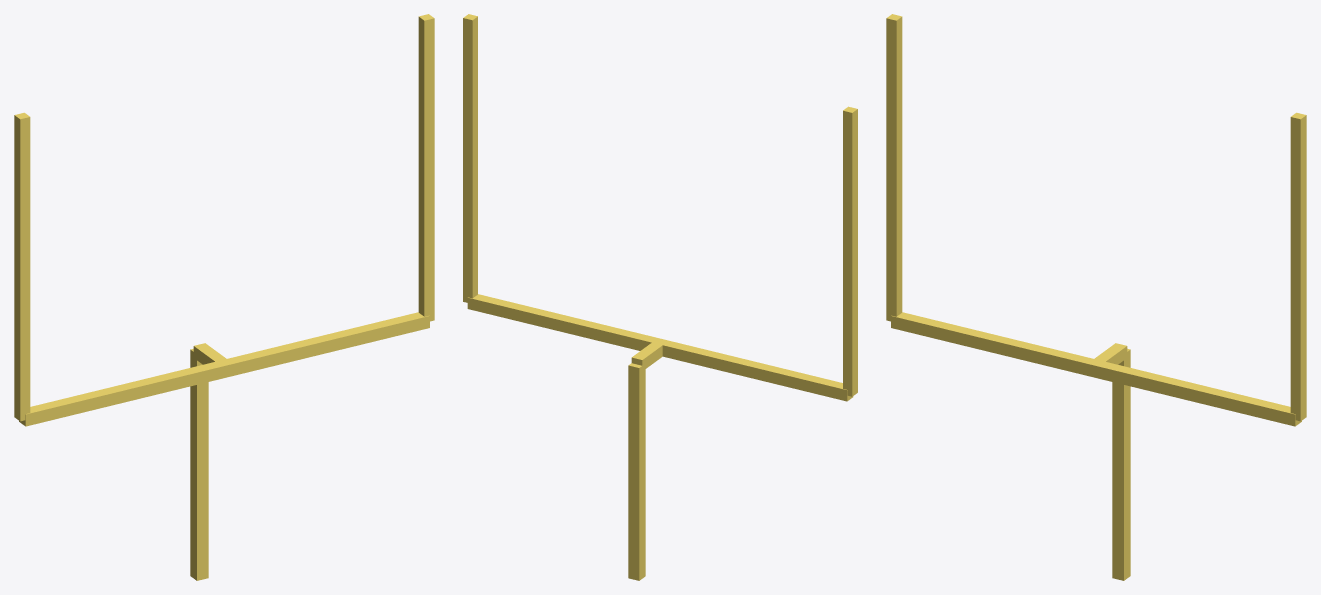
The model's file is goalpost.glb.
3 renders of one model, left to right at view 1: azimuth 30°, elevation 25°; view 2: azimuth 150°, elevation 25°; view 3: azimuth 330°, elevation 25°, orthographic. The views are drawn at different scales.
Visible parts, largest first — view 1: goalpost; view 2: goalpost; view 3: goalpost.
Boxes of the visible parts, x1,y1,x2,y2 form: goalpost: [14, 14, 434, 580]; goalpost: [463, 14, 857, 580]; goalpost: [886, 14, 1306, 580].
Bounding box in the file's own units: 5.74 × 7 × 0.76.
